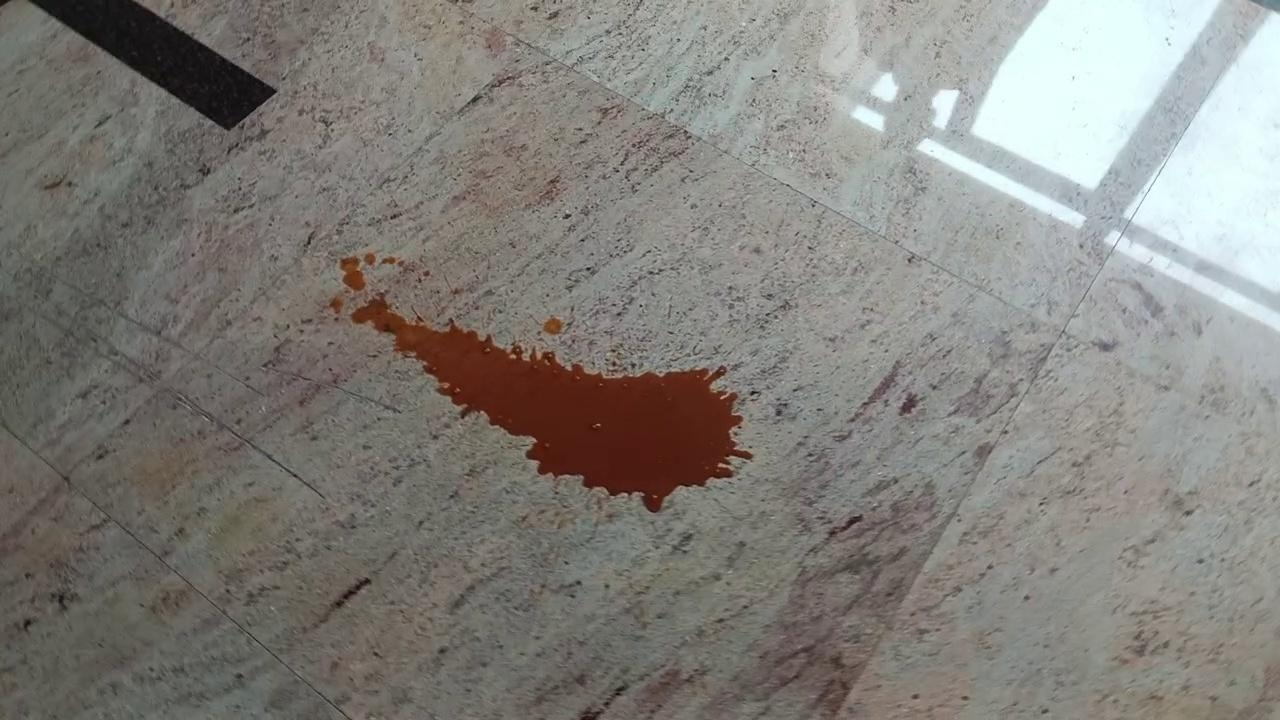dirty_floor: (331, 253, 752, 515)
